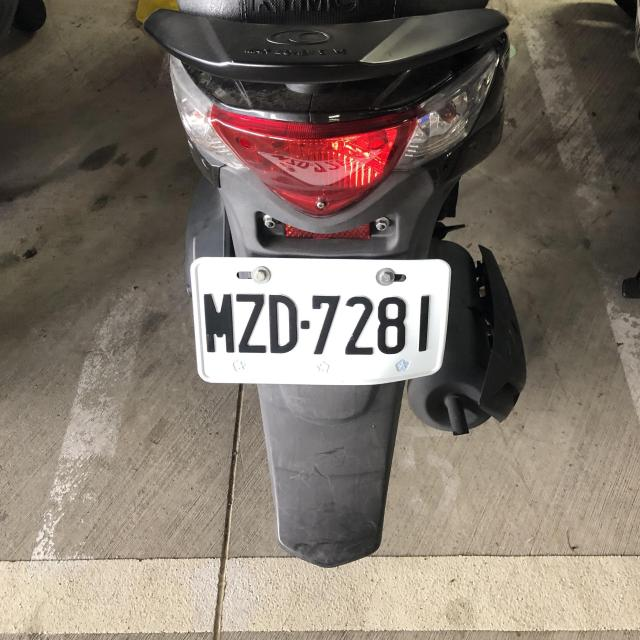W: (189, 251, 452, 386)
